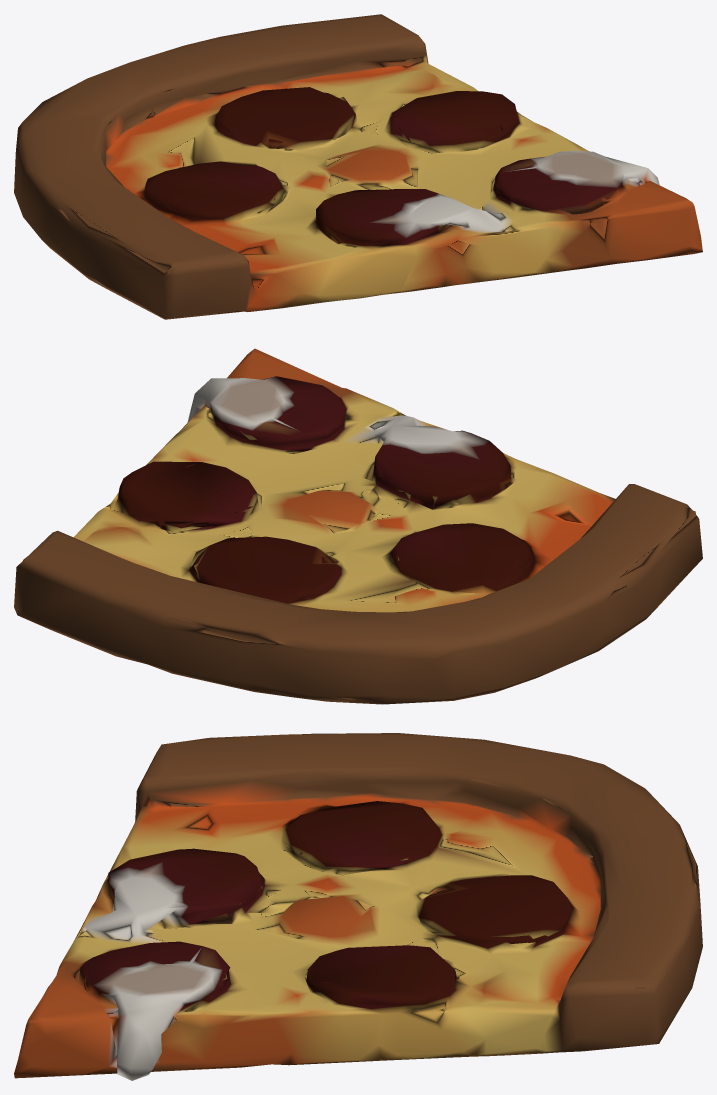
File: gen3d-pizza-slice-lod0.glb
3 renders of one model, top to bottom at view 1: azimuth 30°, elevation 25°; view 2: azimuth 150°, elevation 25°; view 3: azimuth 270°, elevation 25°, orthographic. The views are drawn at different scales.
Visible parts, largest first — view 1: part_0; view 2: part_0; view 3: part_0.
Boxes of the visible parts, x1=… form: part_0: x1=14, y1=14, x2=702, y2=319; part_0: x1=14, y1=348, x2=702, y2=704; part_0: x1=14, y1=733, x2=702, y2=1080.
Bounding box in the file's own units: 8.79 × 0.9586 × 8.78.
